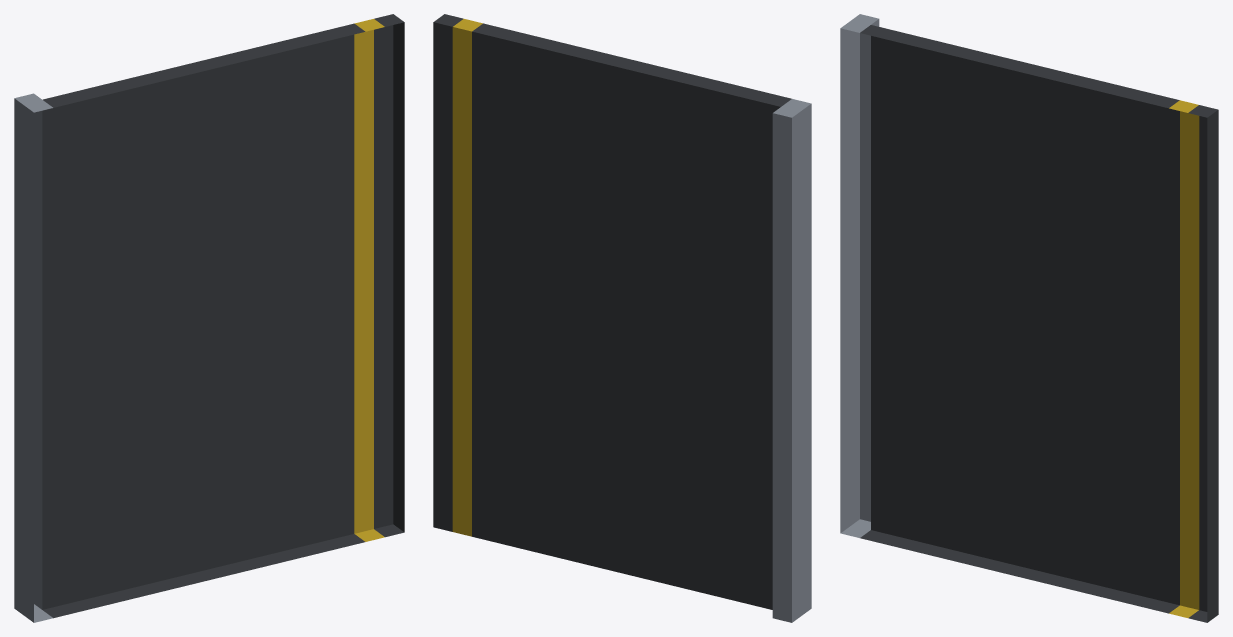
The model's file is SM_RoadBig_Streight.FBX.
The picture shows the model from 3 angles, left to right: view 1: azimuth 30°, elevation 25°; view 2: azimuth 150°, elevation 25°; view 3: azimuth 330°, elevation 25°; orthographic projection.
Parts seen in each view (by area): view 1: SM_RoadBig_Streight; view 2: SM_RoadBig_Streight; view 3: SM_RoadBig_Streight.
Boxes of the visible parts, x1,y1,x2,y2 form: SM_RoadBig_Streight: (14, 14, 404, 622); SM_RoadBig_Streight: (433, 14, 811, 622); SM_RoadBig_Streight: (840, 14, 1218, 622).
Bounding box in the file's own units: 38 × 3.5 × 50.
